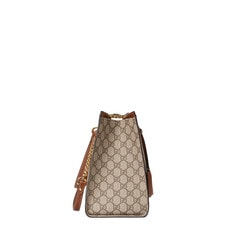Gucci: (79, 101, 161, 232), (98, 133, 133, 203)
